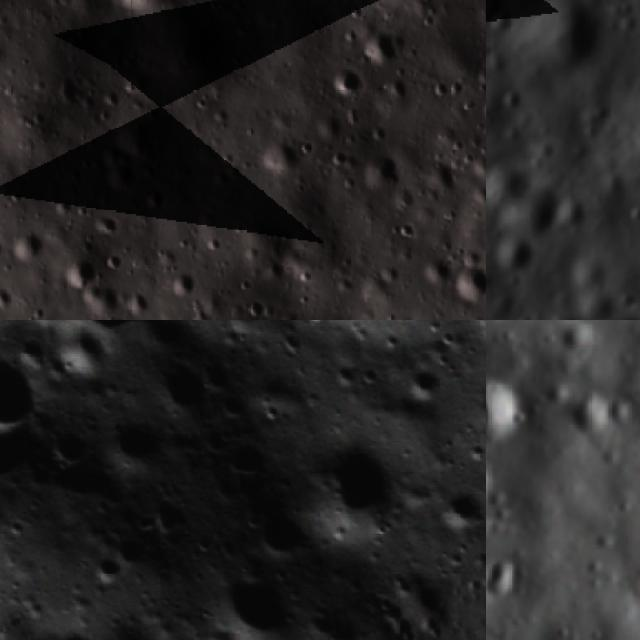crater: (296, 423, 420, 544), (503, 0, 625, 98), (196, 552, 313, 640), (0, 323, 65, 452), (26, 320, 169, 376), (236, 489, 325, 578), (134, 334, 222, 424), (503, 162, 592, 250), (486, 346, 548, 465), (94, 398, 178, 483), (486, 141, 550, 227), (486, 214, 551, 291), (37, 412, 106, 481), (50, 320, 122, 386), (429, 476, 486, 545), (74, 537, 138, 598), (394, 354, 451, 411), (108, 516, 162, 574), (553, 320, 608, 365), (486, 438, 511, 529), (352, 151, 400, 196), (55, 256, 102, 297), (446, 260, 486, 294), (97, 0, 191, 14), (324, 64, 362, 98), (52, 618, 106, 640), (629, 413, 640, 462)
